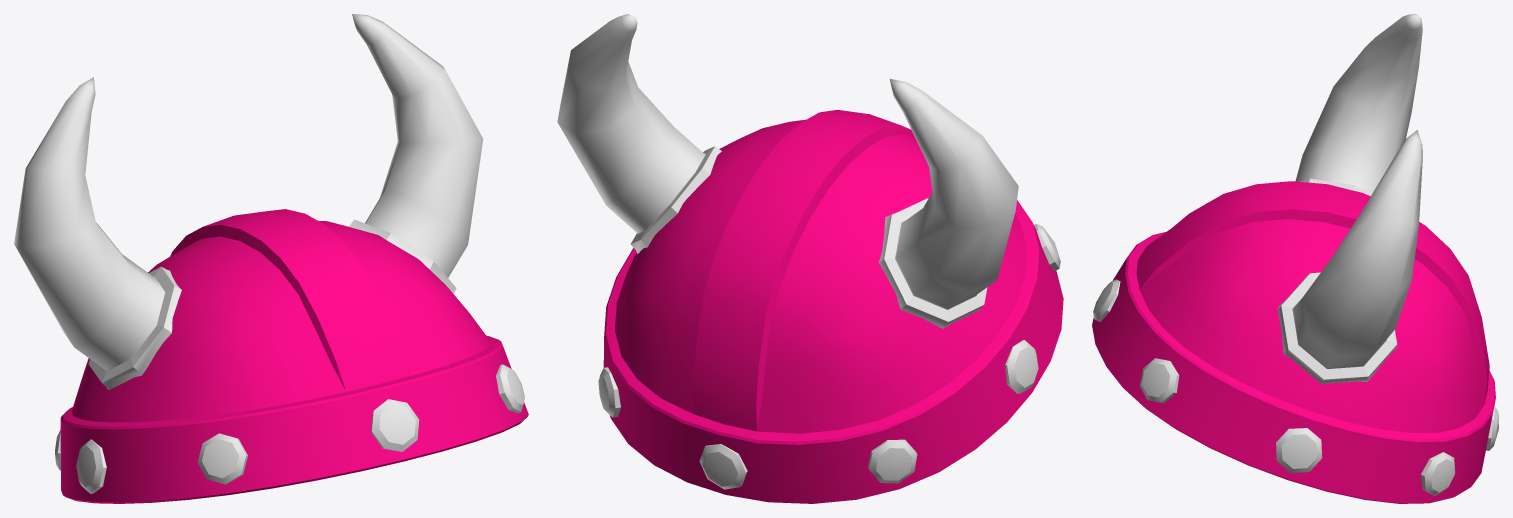
Rendered from Enemy_Helmet.fbx.
3 renders of one model, left to right at view 1: azimuth 30°, elevation 25°; view 2: azimuth 150°, elevation 25°; view 3: azimuth 270°, elevation 25°, orthographic. The views are drawn at different scales.
Visible parts, largest first — view 1: Viking_Helmet; view 2: Viking_Helmet; view 3: Viking_Helmet.
Part boxes in pixels (<box>): Viking_Helmet: <box>14,14,528,503</box>; Viking_Helmet: <box>557,14,1063,503</box>; Viking_Helmet: <box>1092,14,1498,503</box>.
Size of the model in its own units: 72.2 by 63.95 by 61.4.
